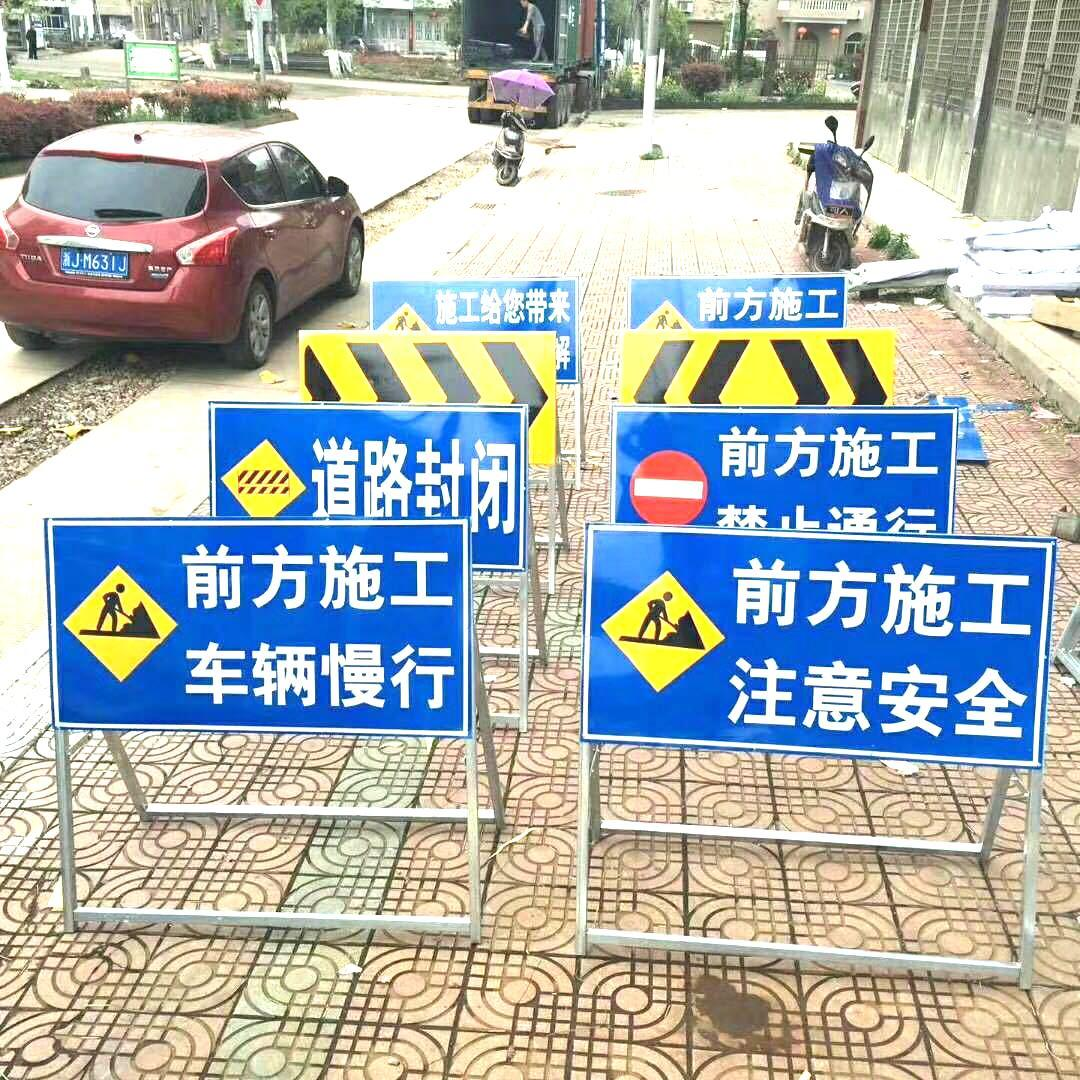sign: (582, 524, 1047, 771), (47, 515, 466, 739), (608, 407, 955, 539), (207, 400, 515, 519), (299, 332, 555, 416), (622, 333, 899, 410), (625, 281, 850, 331), (370, 283, 573, 338)
